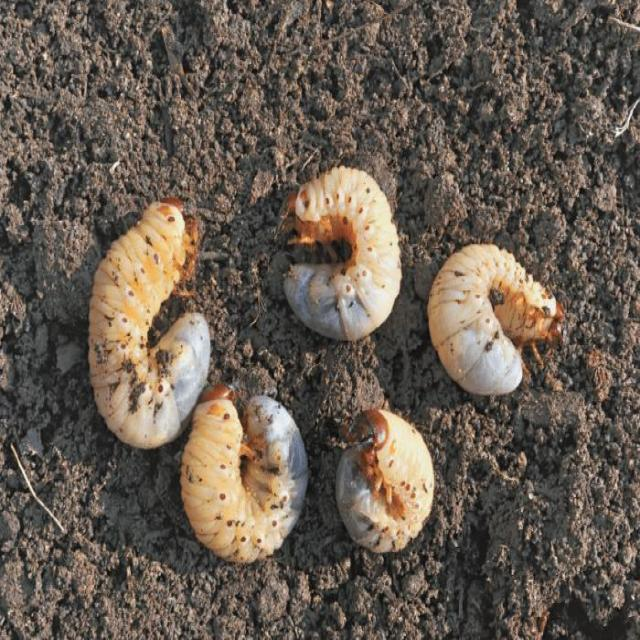Grub-Adult-: (86, 193, 218, 452), (422, 234, 576, 400), (176, 383, 311, 568), (274, 159, 407, 343), (334, 406, 433, 550)
